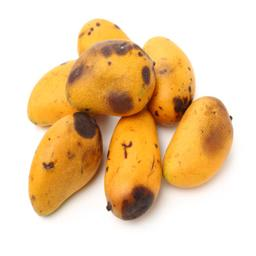Mango Semifresh: (172, 81, 248, 191)
Mango Semirotten: (15, 98, 109, 225), (107, 85, 165, 228), (58, 48, 165, 122)
